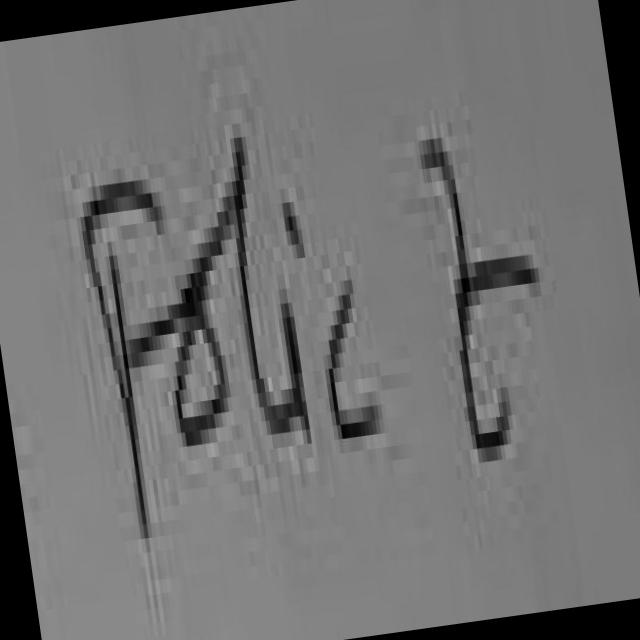F: (83, 180, 175, 531)
Z: (425, 138, 539, 461)
c: (330, 280, 382, 439)
i: (286, 303, 309, 429), (283, 202, 308, 258)
l: (235, 137, 294, 434)
o: (176, 315, 230, 446)
